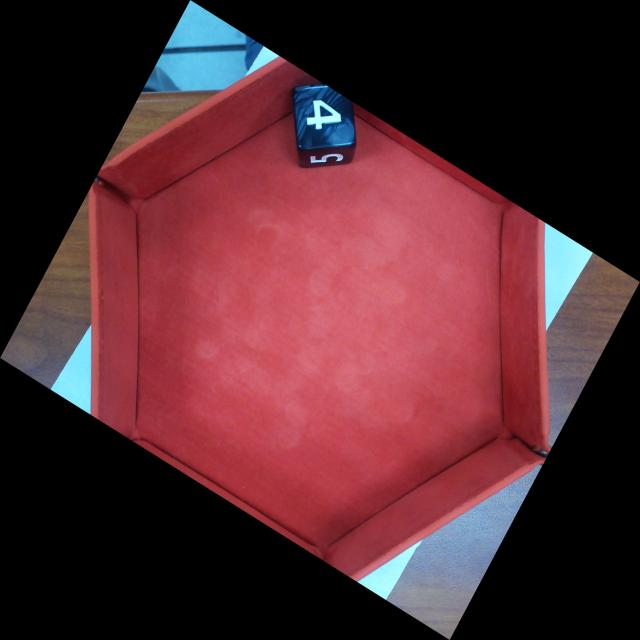dice: (295, 80, 352, 146)
